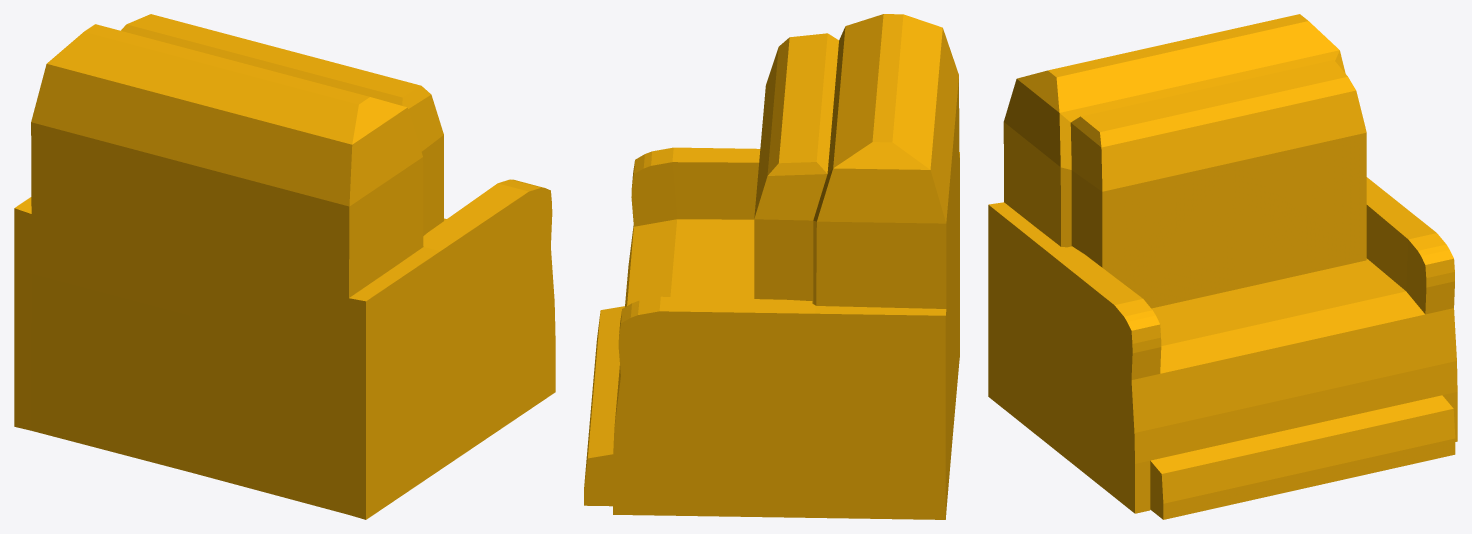
Rendered from SOFA-PEQUEÑO-AMARILLO.glb.
3 renders of one model, left to right at view 1: azimuth 30°, elevation 25°; view 2: azimuth 150°, elevation 25°; view 3: azimuth 270°, elevation 25°, orthographic. The views are drawn at different scales.
Parts seen in each view (by area): view 1: SOFA-PEQUEÑO-AMARILLO; view 2: SOFA-PEQUEÑO-AMARILLO; view 3: SOFA-PEQUEÑO-AMARILLO.
Boxes of the visible parts, x1,y1,x2,y2 form: SOFA-PEQUEÑO-AMARILLO: (14,14,555,519); SOFA-PEQUEÑO-AMARILLO: (584,14,959,519); SOFA-PEQUEÑO-AMARILLO: (988,14,1457,519).
Size of the model in its own units: 3.17 by 2.55 by 3.21.
Materials: 1 (1 with a texture image).
